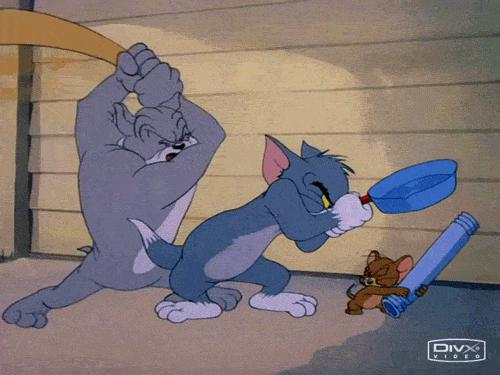tom: (126, 133, 374, 325)
